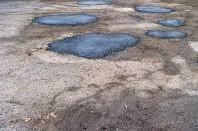alligator-crack: (53, 59, 173, 112)
pothole: (48, 31, 140, 62), (32, 11, 97, 27), (145, 29, 188, 40), (137, 4, 173, 14), (158, 18, 185, 28), (79, 0, 114, 6)
